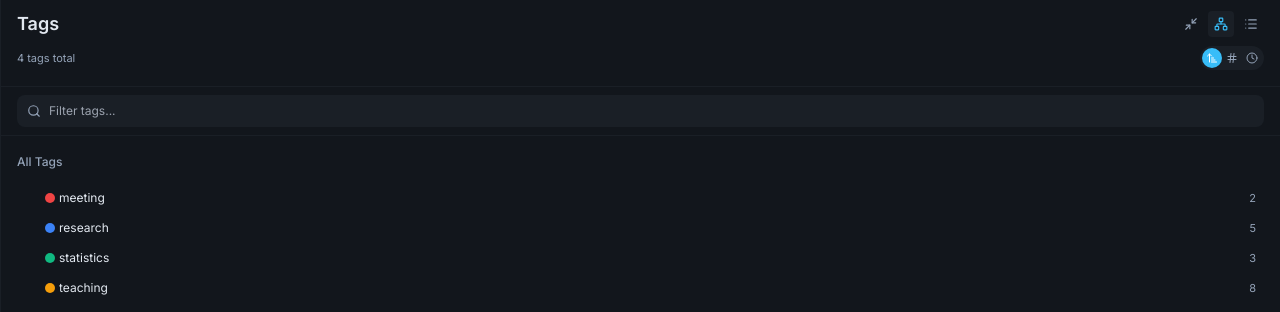
Scenario: TagsPanel Component › Tag Search/Filter › shows clear button when search has text
Type "test" into the field with placeholder "Filter tags..." at (640,111), box top-left (17, 95), bottom-right (1264, 127)
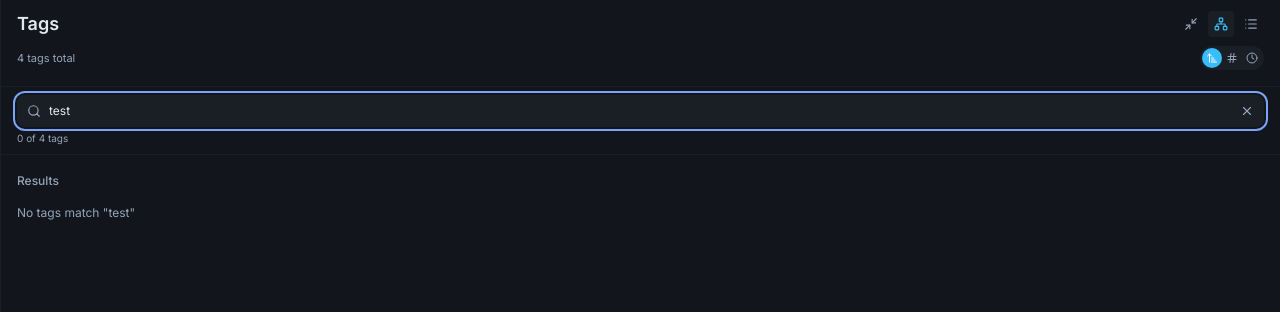
Check: the 7th button is shown, box top-left (1238, 102), bottom-right (1256, 120)
